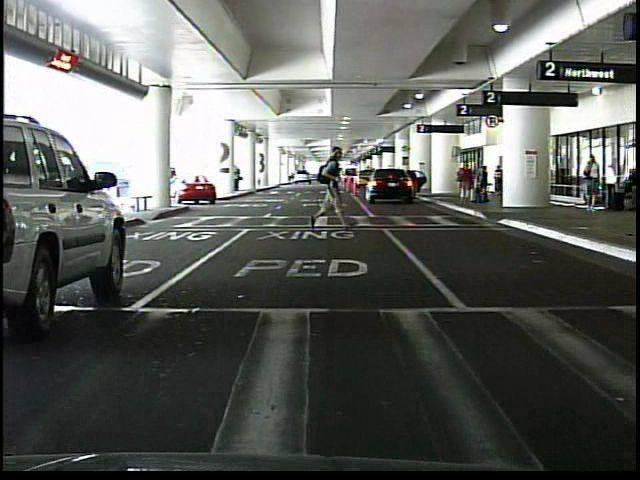person: (304, 149, 351, 231), (581, 155, 597, 214), (456, 160, 477, 202), (477, 166, 490, 201), (493, 164, 503, 194), (233, 164, 242, 191)
